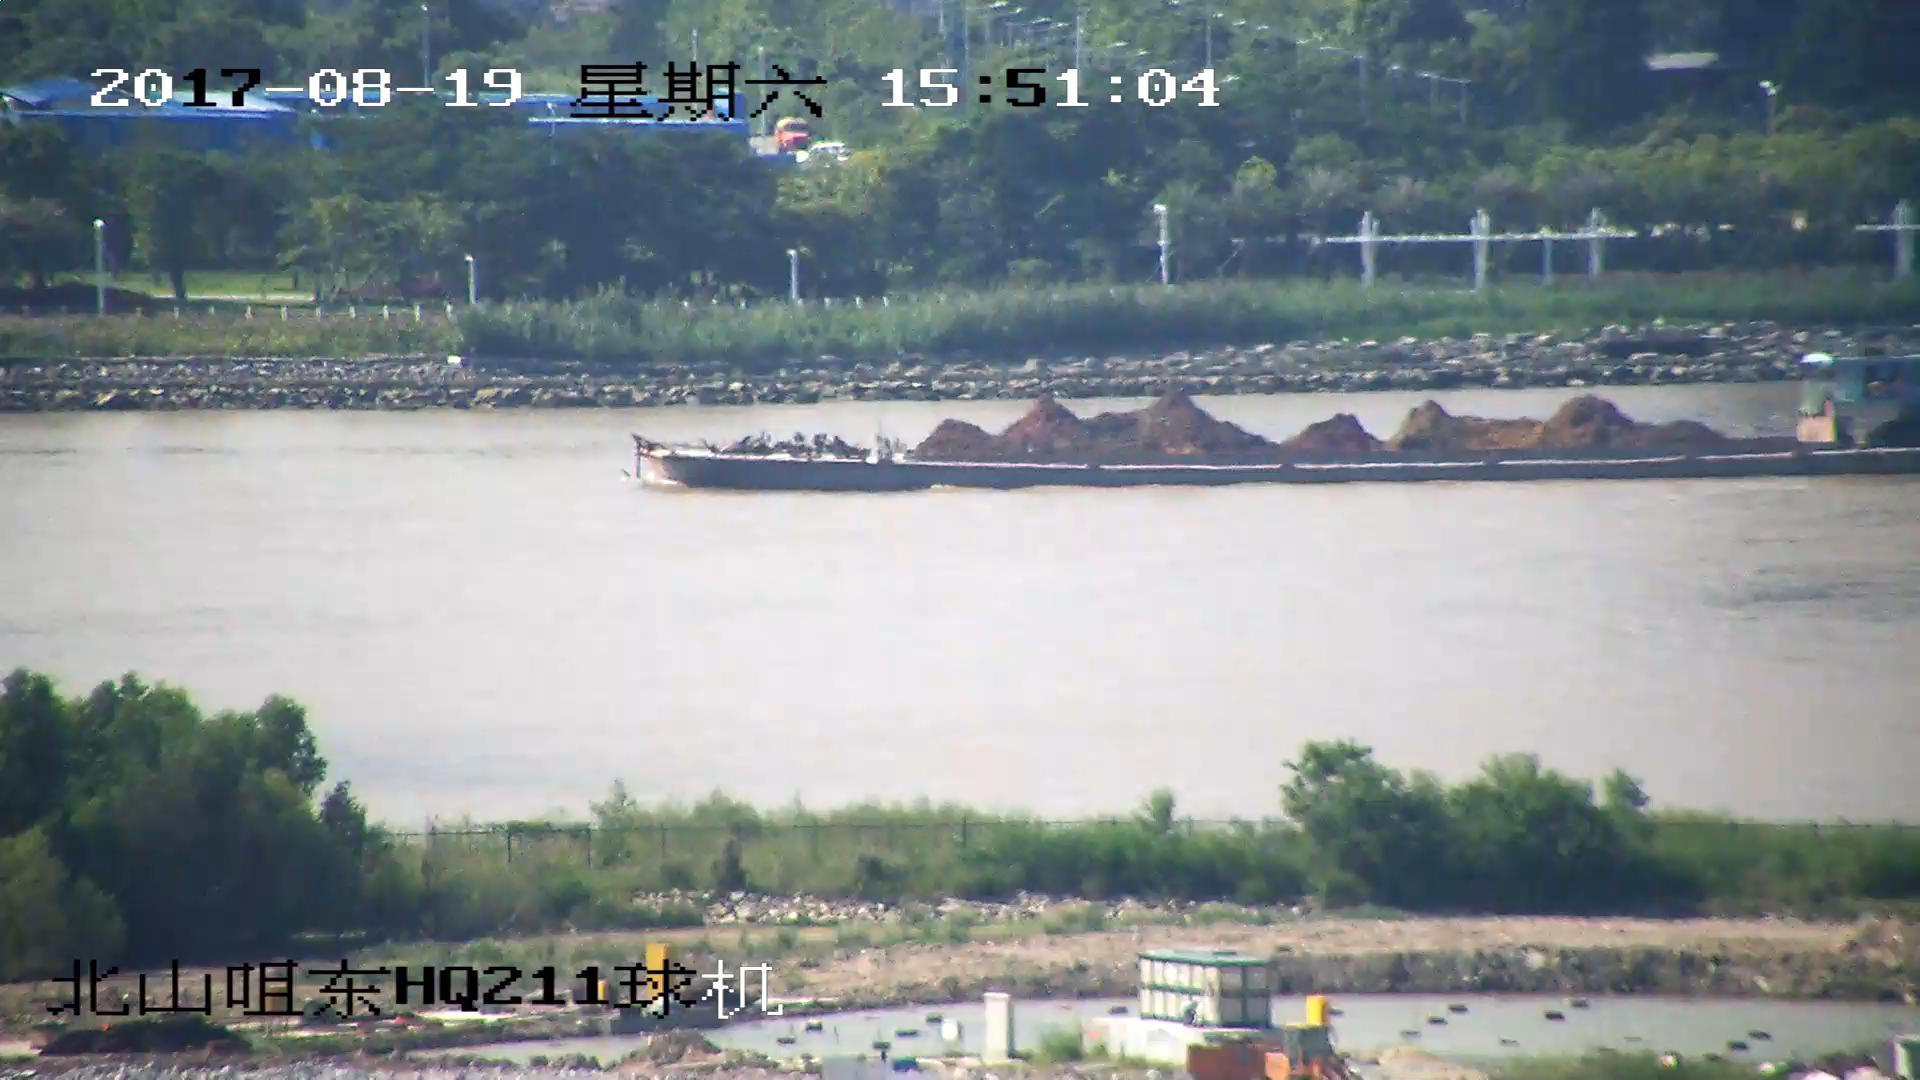Ship: (632, 349, 1920, 497)
